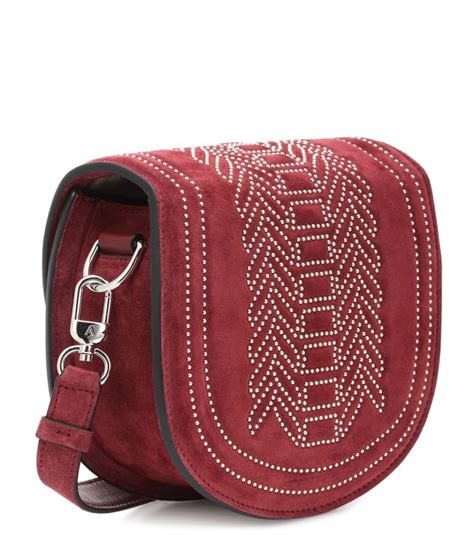gamuza: (40, 137, 442, 520)
